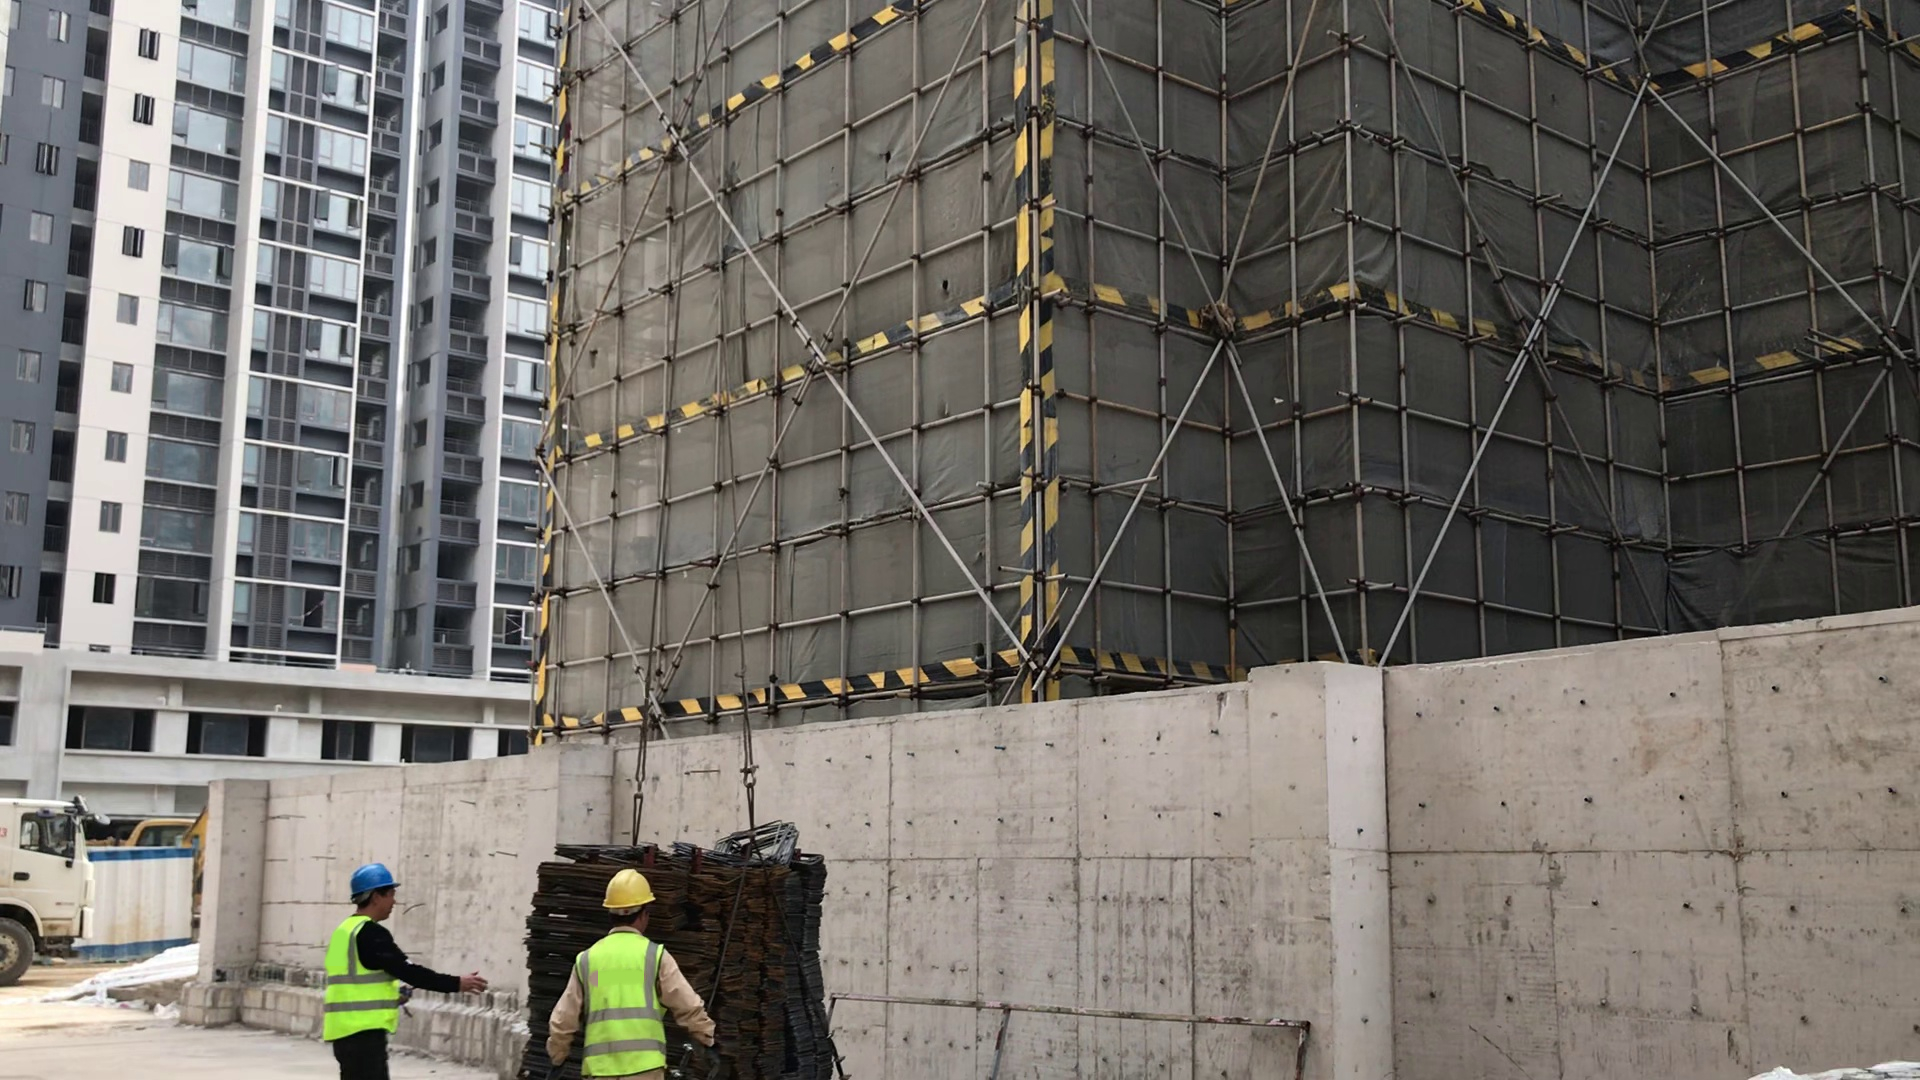helmet: (602, 858, 667, 925), (346, 856, 422, 904)
person: (305, 852, 449, 1080), (564, 871, 713, 1080)
vest: (571, 940, 675, 1074), (314, 916, 401, 1046)
